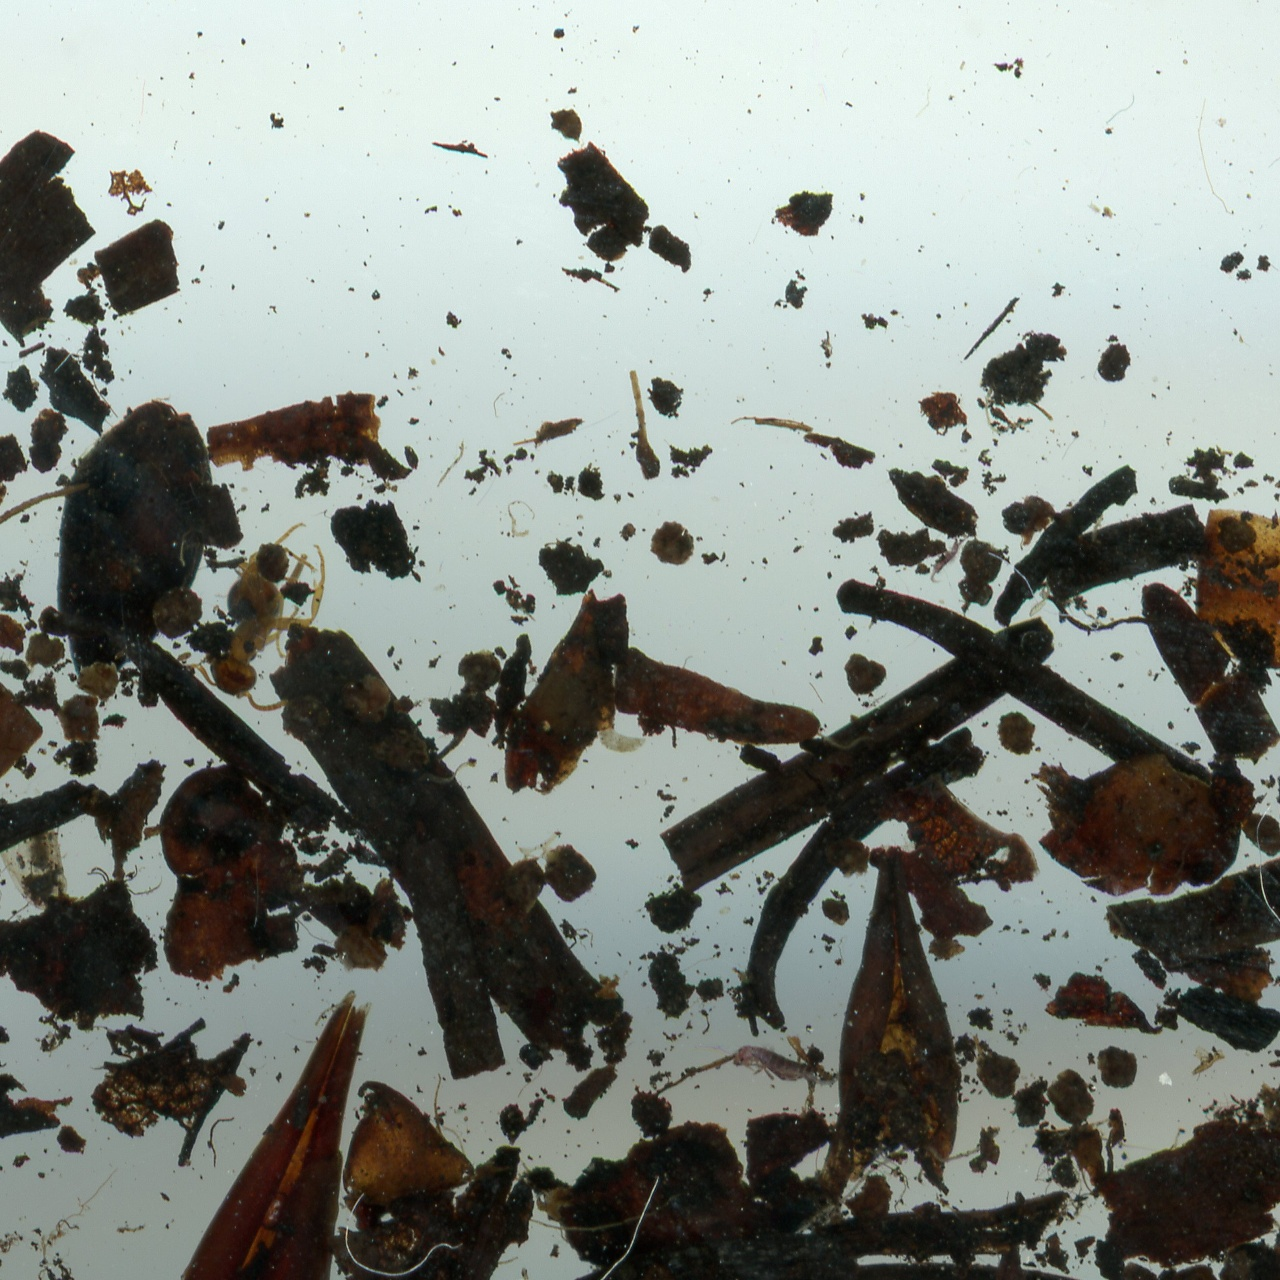arthropod: (192, 522, 335, 712), (727, 1043, 839, 1084)
